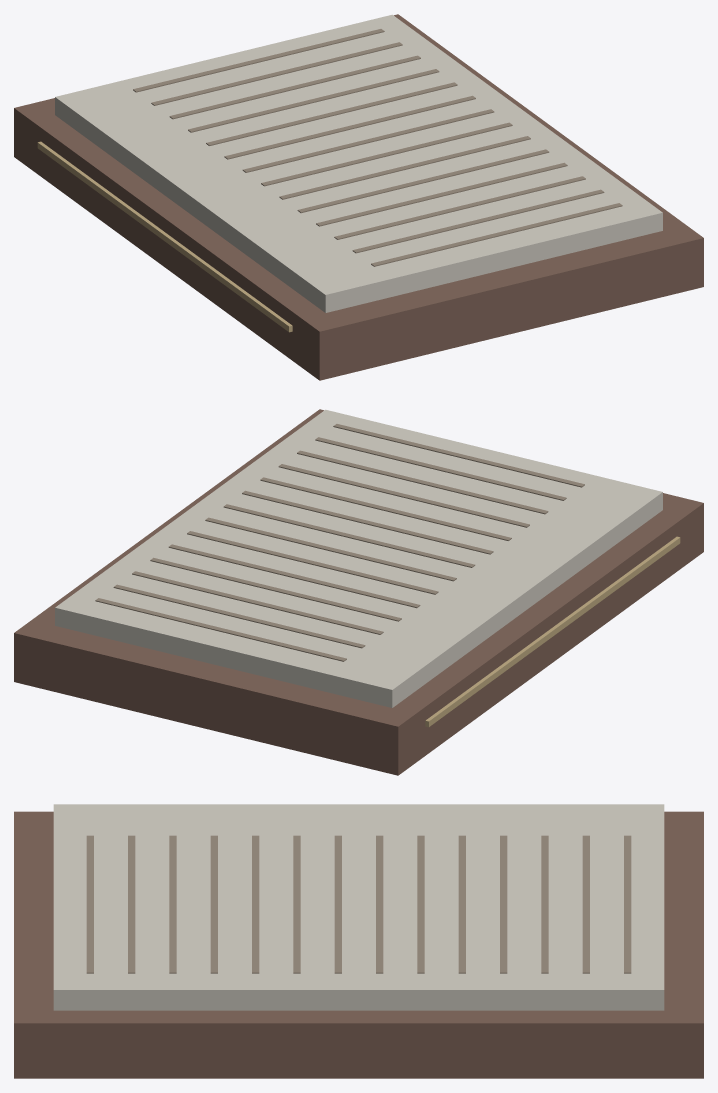
Rendered from case-ledger.glb.
3 views of the same model, one above another, from view 1: azimuth 30°, elevation 25°; view 2: azimuth 150°, elevation 25°; view 3: azimuth 270°, elevation 25° (orthographic). The views are drawn at different scales.
Parts seen in each view (by area): view 1: parchment-pages, leather-cover, gold-foil-spine, written-line--0.37230769230769234, written-line-0.16923076923076924, written-line-0.30461538461538457, written-line-0.3723076923076923, written-line-0.44, written-line--0.44, written-line--0.3046153846153846, written-line--0.10153846153846152, written-line--0.03384615384615386 (+5 smaller); view 2: parchment-pages, leather-cover, gold-foil-spine, written-line--0.44, written-line--0.37230769230769234, written-line--0.3046153846153846, written-line--0.16923076923076924, written-line-0.3723076923076923, written-line--0.23692307692307693, written-line--0.10153846153846152, written-line--0.03384615384615386, written-line-0.033846153846153804 (+5 smaller); view 3: parchment-pages, leather-cover, written-line--0.3046153846153846, written-line--0.10153846153846152, written-line-0.10153846153846152, written-line-0.30461538461538457, written-line--0.44, written-line--0.37230769230769234, written-line--0.23692307692307693, written-line--0.16923076923076924, written-line--0.03384615384615386, written-line-0.033846153846153804 (+4 smaller).
Part boxes in pixels (x1,y1,x2,y2): parchment-pages: (55,14,662,312); leather-cover: (14,14,703,380); gold-foil-spine: (37,141,292,332); written-line--0.37230769230769234: (151,42,402,105); written-line-0.16923076923076924: (297,149,549,213); written-line-0.30461538461538457: (334,176,585,239); written-line-0.3723076923076923: (352,189,604,253); written-line-0.44: (371,203,622,266); written-line--0.44: (133,29,384,92); written-line--0.3046153846153846: (169,55,420,119); written-line--0.10153846153846152: (224,95,475,159); written-line--0.03384615384615386: (242,109,494,172); parchment-pages: (55,409,662,707); leather-cover: (14,409,703,775); gold-foil-spine: (425,536,680,727); written-line--0.44: (95,598,346,661); written-line--0.37230769230769234: (113,584,365,648); written-line--0.3046153846153846: (132,571,383,634); written-line--0.16923076923076924: (168,544,420,608); written-line-0.3723076923076923: (315,437,566,500); written-line--0.23692307692307693: (150,557,401,621); written-line--0.10153846153846152: (187,531,438,594); written-line--0.03384615384615386: (205,517,456,581); written-line-0.033846153846153804: (223,504,475,567); parchment-pages: (53,804,664,1010); leather-cover: (14,811,703,1078); written-line--0.3046153846153846: (541,835,548,973); written-line--0.10153846153846152: (417,835,424,973); written-line-0.10153846153846152: (293,835,300,973); written-line-0.30461538461538457: (169,835,176,973); written-line--0.44: (624,835,631,973); written-line--0.37230769230769234: (582,835,589,973); written-line--0.23692307692307693: (500,835,507,973); written-line--0.16923076923076924: (458,835,465,973); written-line--0.03384615384615386: (376,835,383,973); written-line-0.033846153846153804: (334,835,341,973).
Bounding box in the file's own units: 0.8275 × 0.143 × 1.13.
